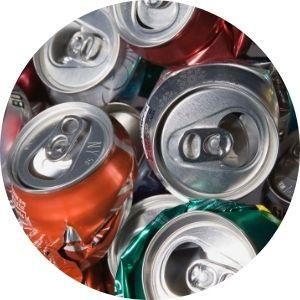metal: (125, 51, 279, 201), (8, 87, 135, 263), (110, 188, 278, 297)
